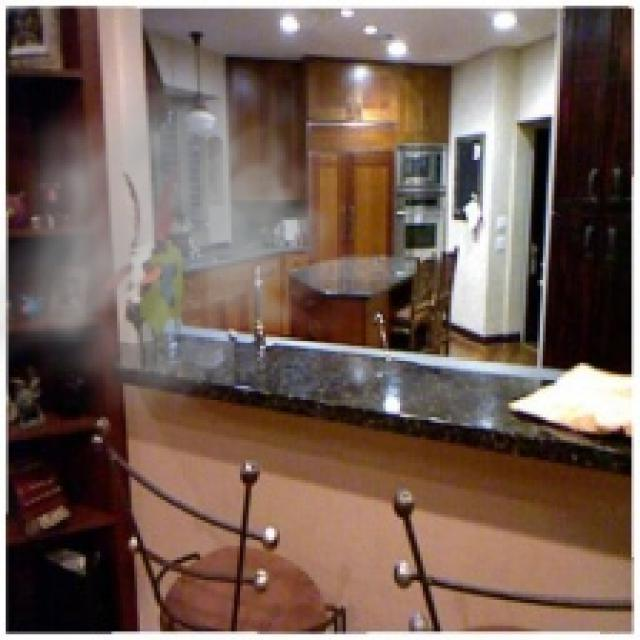Smoke: (0, 49, 377, 428)
